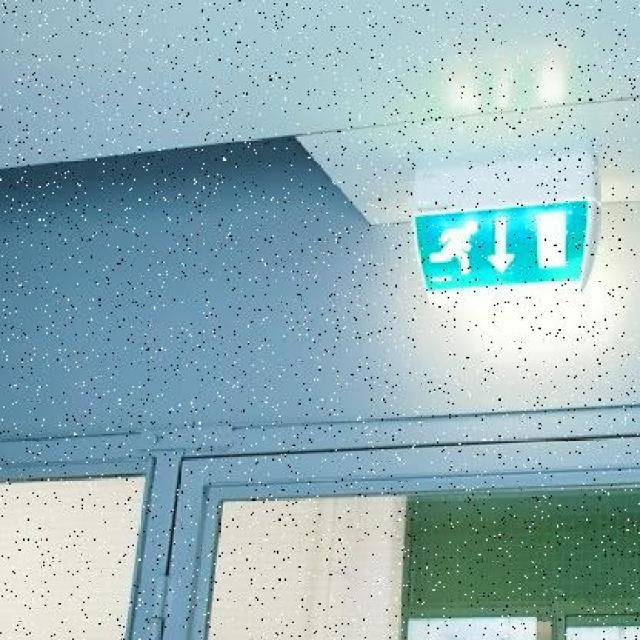person: (392, 142, 617, 318)
